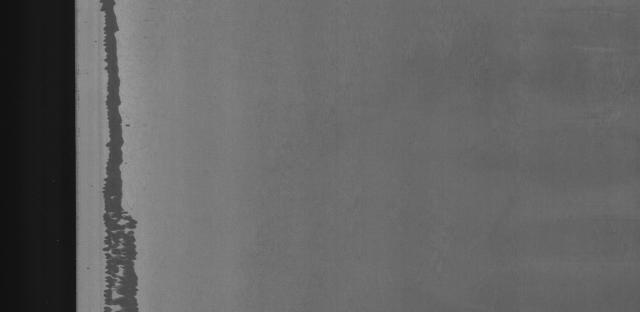oil_spot: (94, 0, 148, 312)
